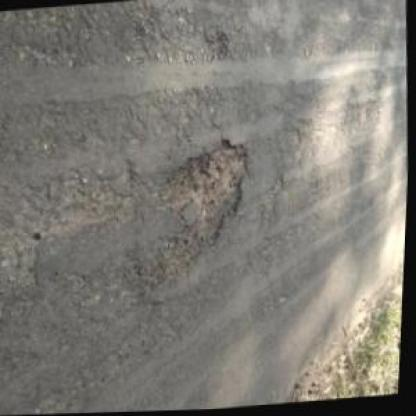pothole: (158, 136, 257, 269), (198, 31, 232, 65)
